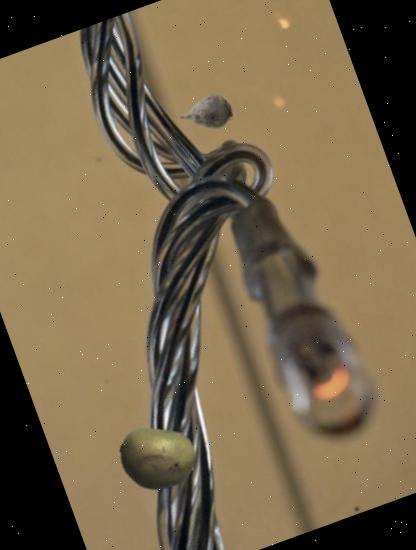Beetroot: (172, 78, 241, 148)
Pomelo: (108, 410, 205, 507)
